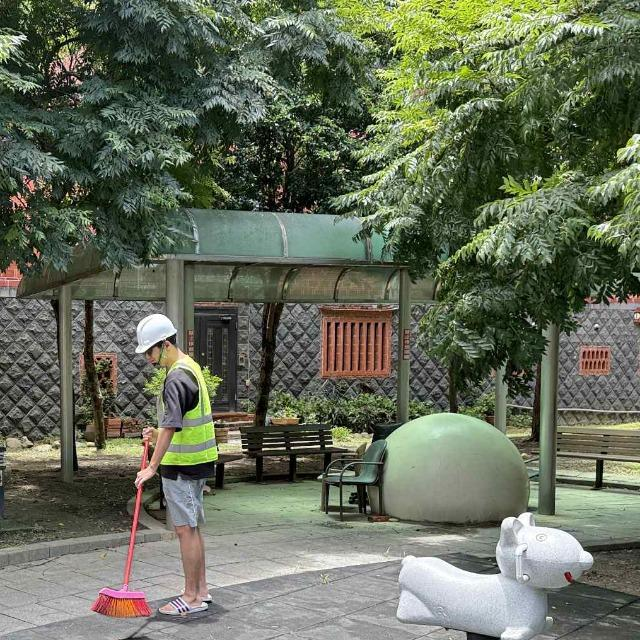Helmet: (132, 313, 185, 371)
